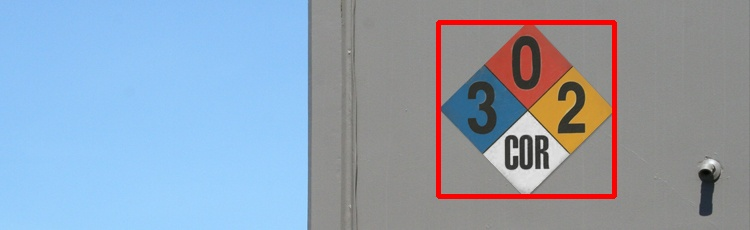nfpa: (438, 22, 614, 196)
